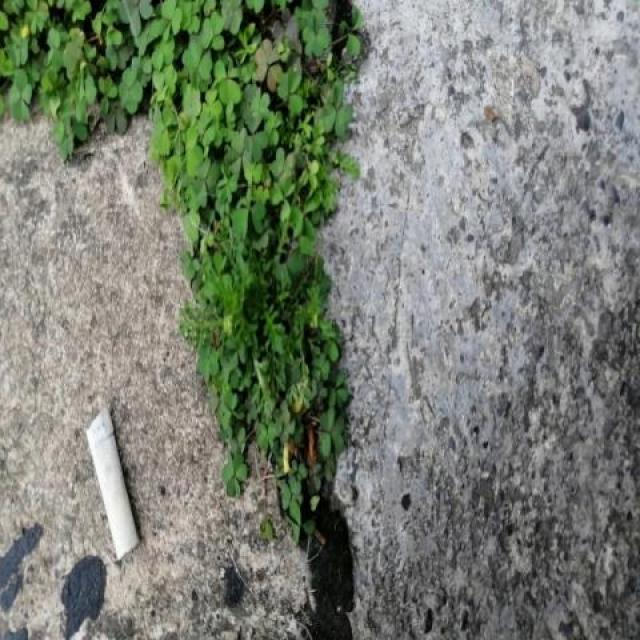non-organic waste: (78, 401, 154, 567)
